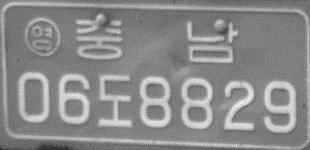0: (17, 70, 51, 122)
2: (222, 79, 255, 132)
6: (57, 72, 90, 125)
8: (179, 76, 214, 131), (138, 75, 173, 129)
9: (262, 79, 298, 134)
도: (97, 73, 134, 128)
영: (23, 16, 62, 57)
충남_D: (74, 16, 238, 64)
